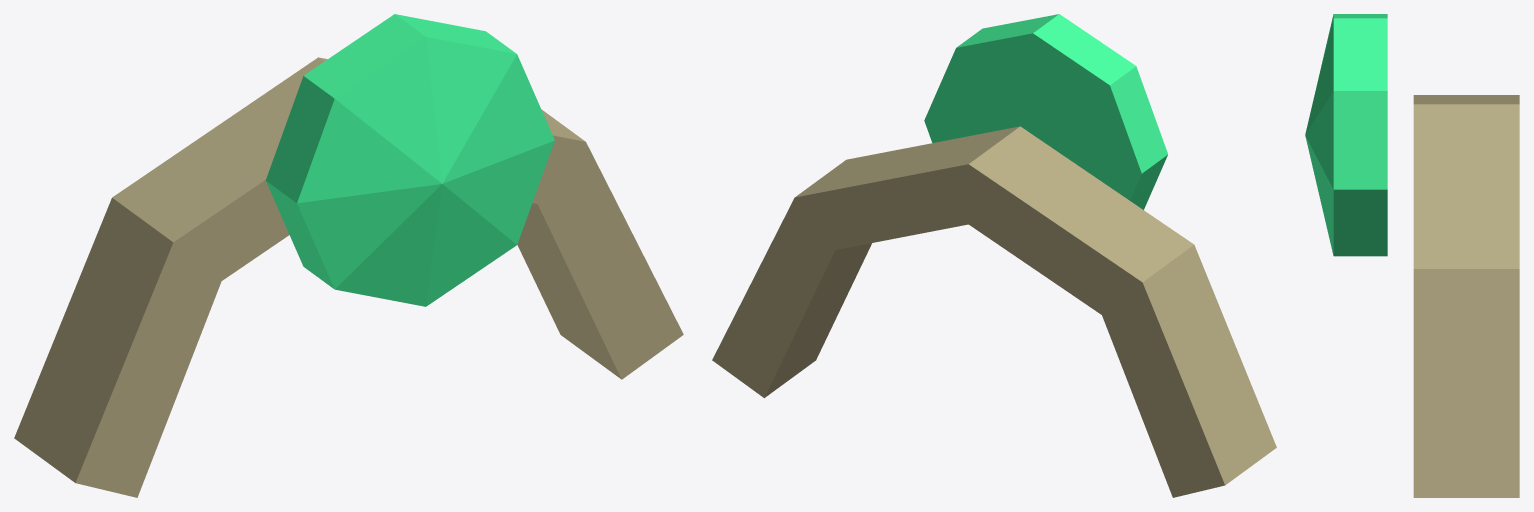
Rendered from moon_pearl.obj.
3 views of the same model, side by side, from view 1: azimuth 30°, elevation 25°; view 2: azimuth 150°, elevation 25°; view 3: azimuth 270°, elevation 25° (orthographic). The views are drawn at different scales.
Parts seen in each view (by area): view 1: moon_pearl, moon_cradle_edge, moon_cradle; view 2: moon_cradle, moon_cradle_edge, moon_pearl; view 3: moon_cradle_edge, moon_pearl.
Boxes of the visible parts, x1,y1,x2,y2 form: moon_pearl: (265, 14, 554, 306); moon_cradle_edge: (14, 57, 621, 482); moon_cradle: (75, 135, 683, 497); moon_cradle: (712, 164, 1224, 497); moon_cradle_edge: (764, 126, 1276, 485); moon_pearl: (924, 14, 1167, 209); moon_cradle_edge: (1413, 95, 1519, 497); moon_pearl: (1305, 14, 1387, 256).
Bounding box in the file's own units: 0.4009 × 0.2744 × 0.1416.
